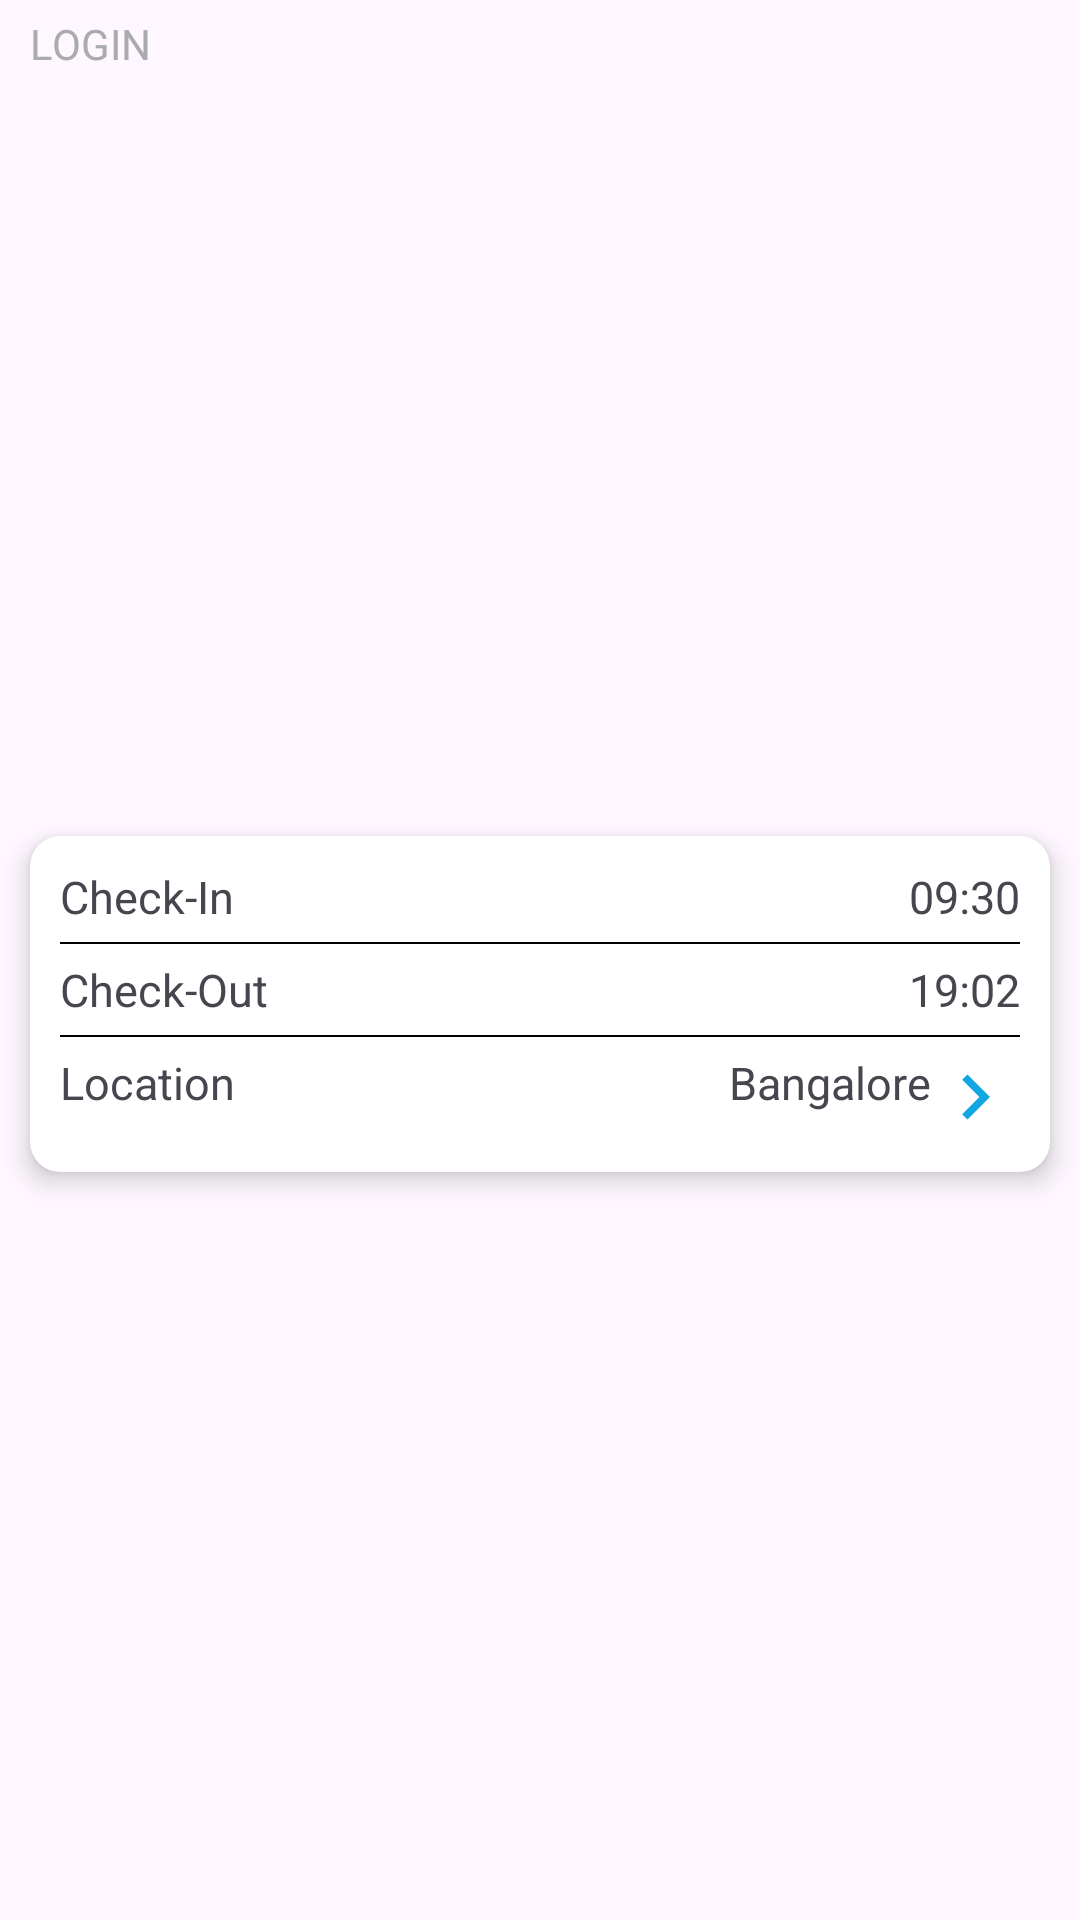

Screen size 1080*1920. Icon name, then its box in pixels as (x1, y1, x2, y2):
navigate next: (962, 1074, 990, 1120)
